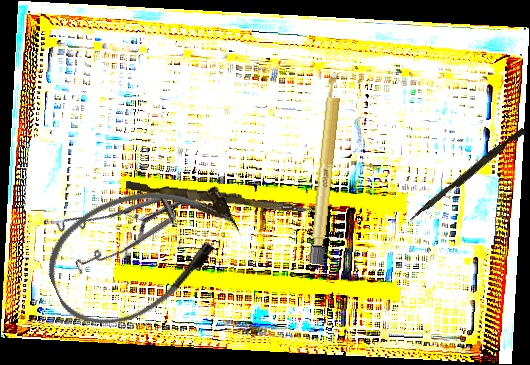Cannula: (30, 157, 256, 345)
Pusher: (408, 124, 527, 226), (124, 181, 318, 214)
Scalpel Handle: (308, 71, 345, 265)
Speculum: (41, 134, 202, 301)
